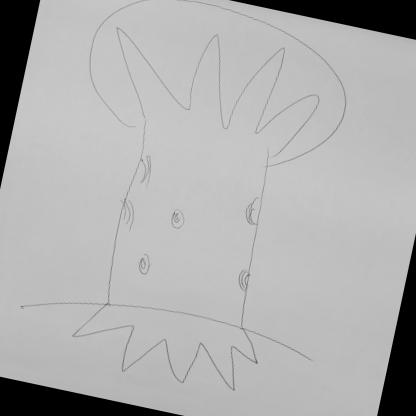branch_sharp: (96, 12, 330, 166)
crown_mushroom: (73, 0, 360, 180)
knot: (112, 197, 140, 231), (242, 194, 266, 228), (132, 154, 156, 188), (134, 252, 154, 276), (167, 208, 188, 230), (235, 268, 252, 290)
root_under: (65, 281, 264, 398)
trunk_straight: (101, 149, 271, 308)
